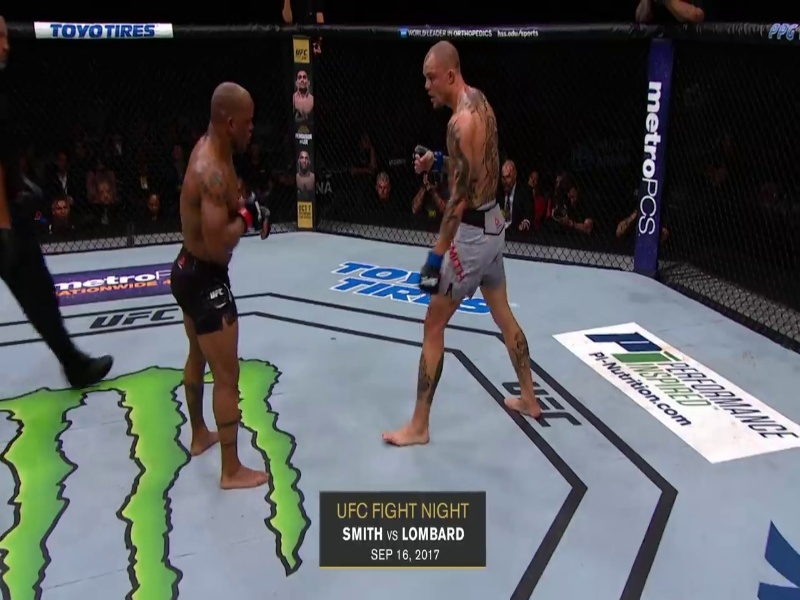fighter: (380, 38, 557, 451), (162, 79, 288, 497)
